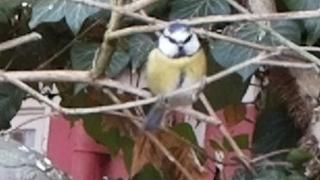blue tit: (139, 23, 208, 131)
